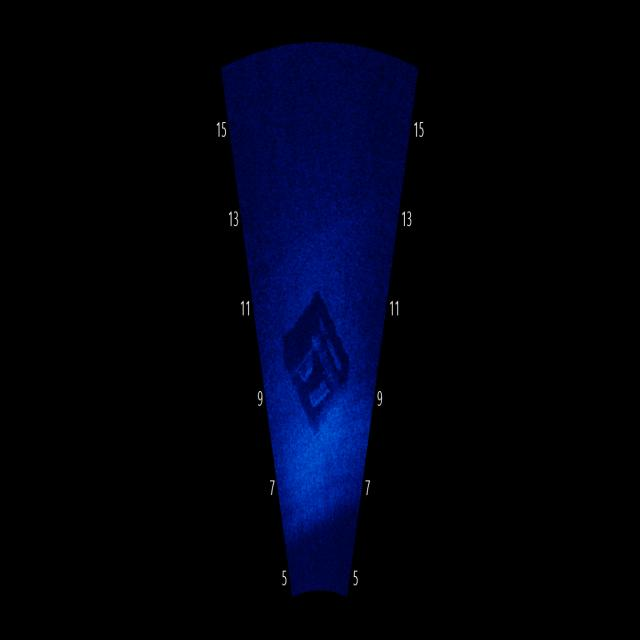square: (274, 252, 355, 440)
